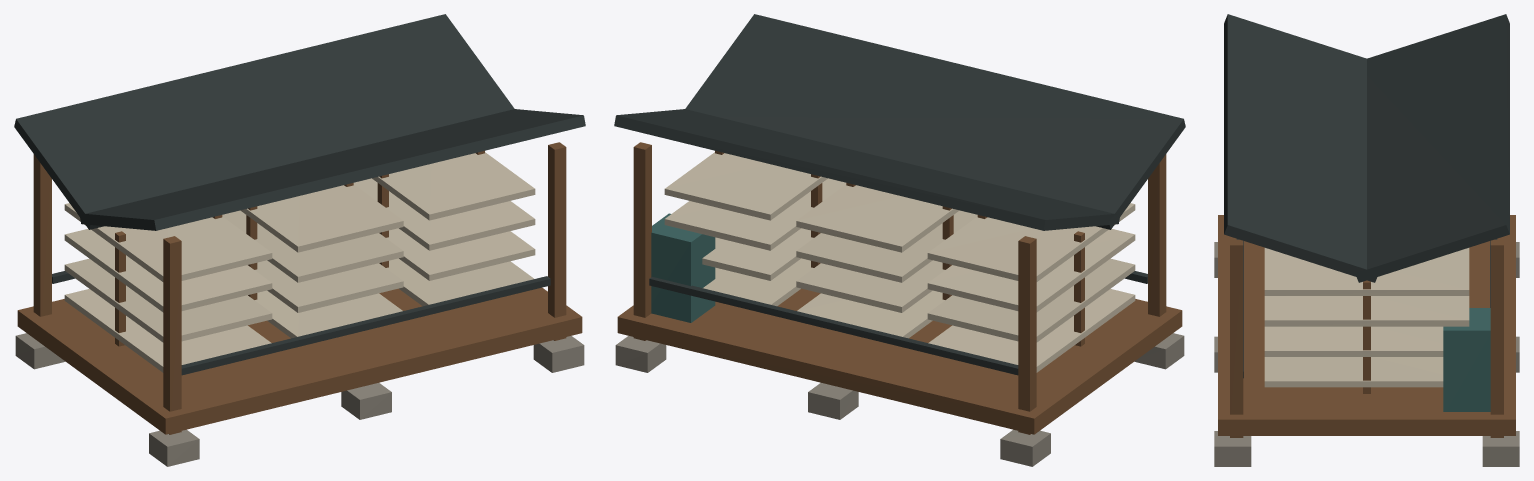
Rendered from Wood-Drying-Shed.glb.
3 views of the same model, side by side, from view 1: azimuth 30°, elevation 25°; view 2: azimuth 150°, elevation 25°; view 3: azimuth 270°, elevation 25° (orthographic).
Parts seen in each view (by area): view 1: wood-drying-shed-static-wood-drying-shed-charcoal-roof-rails, wood-drying-shed-static-wood-drying-shed-cream-empty-shelves, wood-drying-shed-static-wood-drying-shed-warm-timber-frame, wood-drying-shed-static-wood-drying-shed-pale-stone-footings; view 2: wood-drying-shed-static-wood-drying-shed-charcoal-roof-rails, wood-drying-shed-static-wood-drying-shed-cream-empty-shelves, wood-drying-shed-static-wood-drying-shed-warm-timber-frame, wood-drying-shed-static-wood-drying-shed-pale-stone-footings, wood-drying-shed-static-wood-drying-shed-muted-teal-locked-c; view 3: wood-drying-shed-static-wood-drying-shed-charcoal-roof-rails, wood-drying-shed-static-wood-drying-shed-warm-timber-frame, wood-drying-shed-static-wood-drying-shed-cream-empty-shelves, wood-drying-shed-static-wood-drying-shed-muted-teal-locked-c, wood-drying-shed-static-wood-drying-shed-pale-stone-footings.
Boxes of the visible parts, x1,y1,x2,y2 form: wood-drying-shed-static-wood-drying-shed-charcoal-roof-rails: (14, 14, 585, 375); wood-drying-shed-static-wood-drying-shed-cream-empty-shelves: (64, 152, 535, 372); wood-drying-shed-static-wood-drying-shed-warm-timber-frame: (17, 142, 582, 434); wood-drying-shed-static-wood-drying-shed-pale-stone-footings: (15, 333, 584, 466); wood-drying-shed-static-wood-drying-shed-charcoal-roof-rails: (614, 14, 1185, 375); wood-drying-shed-static-wood-drying-shed-cream-empty-shelves: (664, 152, 1135, 372); wood-drying-shed-static-wood-drying-shed-warm-timber-frame: (617, 142, 1182, 434); wood-drying-shed-static-wood-drying-shed-pale-stone-footings: (615, 333, 1184, 466); wood-drying-shed-static-wood-drying-shed-muted-teal-locked-c: (651, 213, 715, 322); wood-drying-shed-static-wood-drying-shed-charcoal-roof-rails: (1224, 14, 1509, 378); wood-drying-shed-static-wood-drying-shed-warm-timber-frame: (1218, 215, 1515, 437); wood-drying-shed-static-wood-drying-shed-cream-empty-shelves: (1264, 248, 1469, 387); wood-drying-shed-static-wood-drying-shed-muted-teal-locked-c: (1443, 308, 1490, 411); wood-drying-shed-static-wood-drying-shed-pale-stone-footings: (1214, 242, 1519, 466).
Size of the model in its own units: 6.7 by 3.63 by 4.1.
